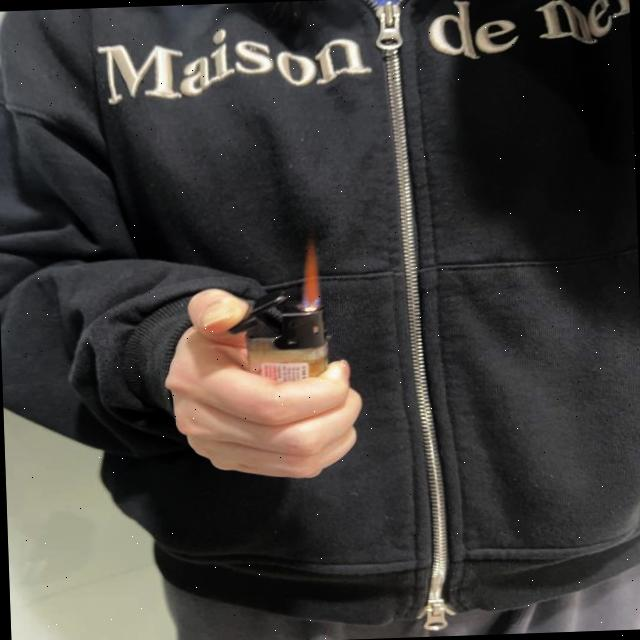fire: (295, 236, 323, 314)
